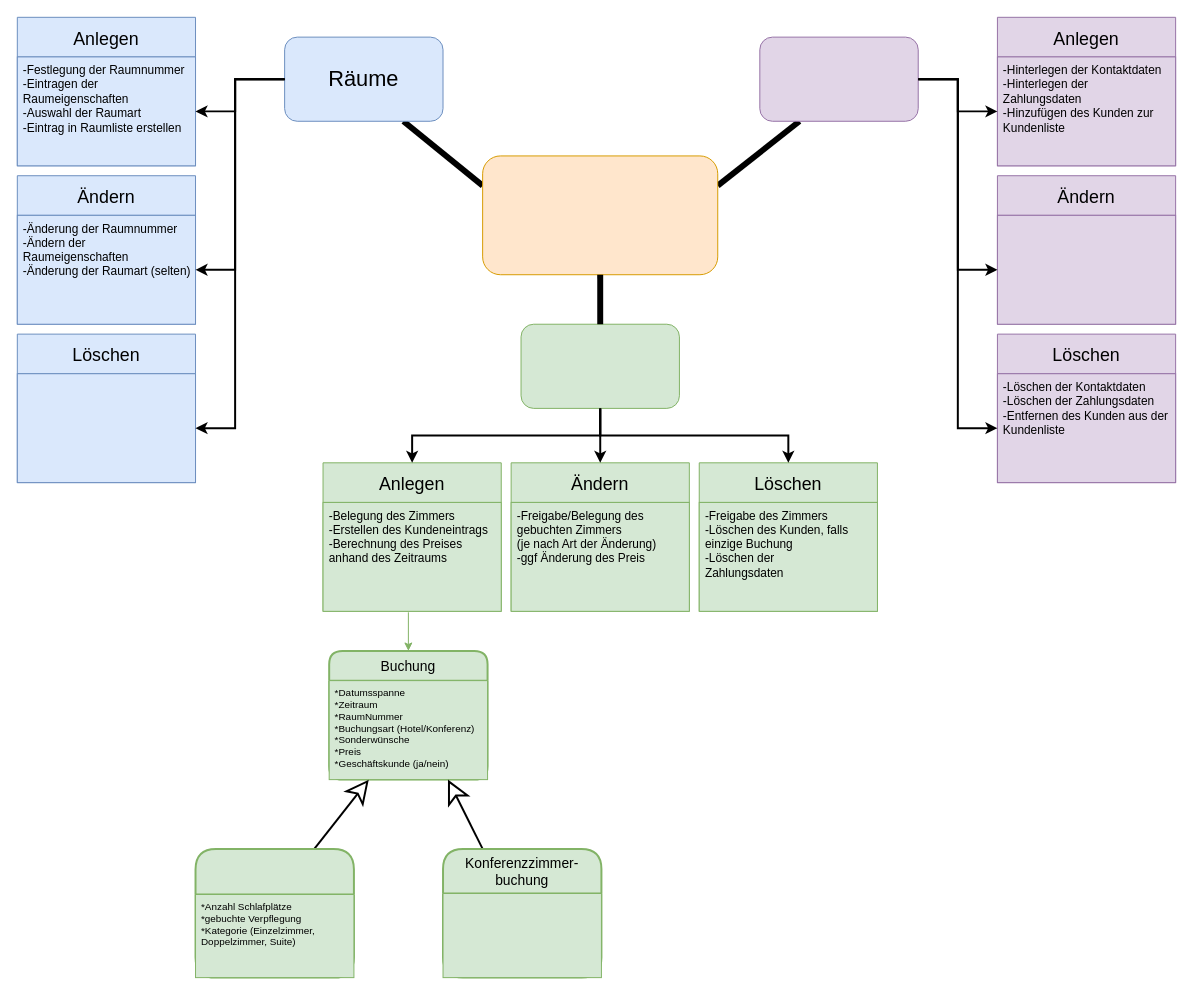
The diagram is 1193 pixels wide and 996 high, and some of its shapes have lost their labels. The box of each missing label's shape, as (x1, y1, x2, y2) in pixels:
*Anzahl Personen *Kategorie (Großgruppe, Kleingruppe) *Vorhandene Ausstattung: (442, 892, 601, 978)
-Eintrag in Raumliste löschen: (16, 373, 196, 483)
-Ändern der Kontaktdaten -Ändern der Zahlungsdaten: (996, 214, 1176, 324)
Buchungen: (520, 323, 679, 408)
Hotelzimmerbuchung: (194, 847, 354, 978)
Kunden: (759, 36, 918, 121)
Projekt BH-ROOM: (482, 155, 718, 275)
